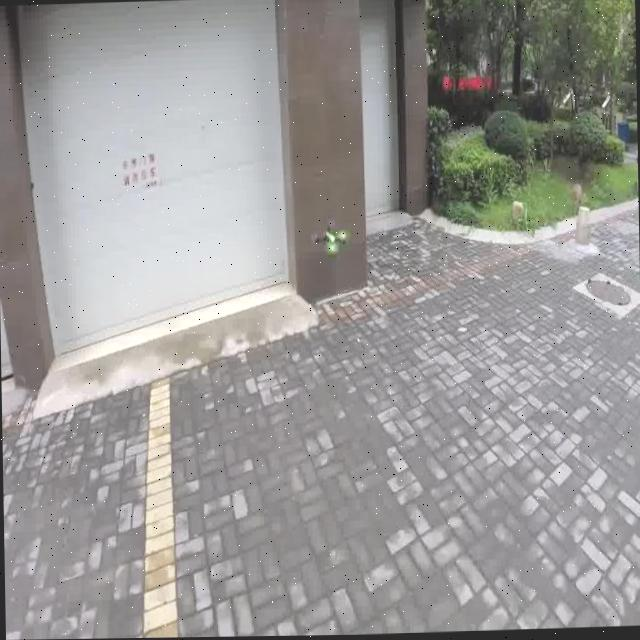drone: (302, 217, 354, 261)
